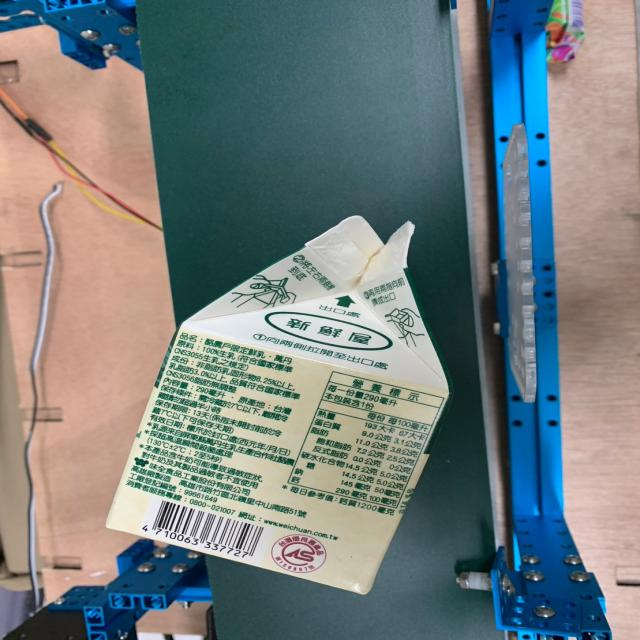non_white_jug: (67, 181, 467, 610)
